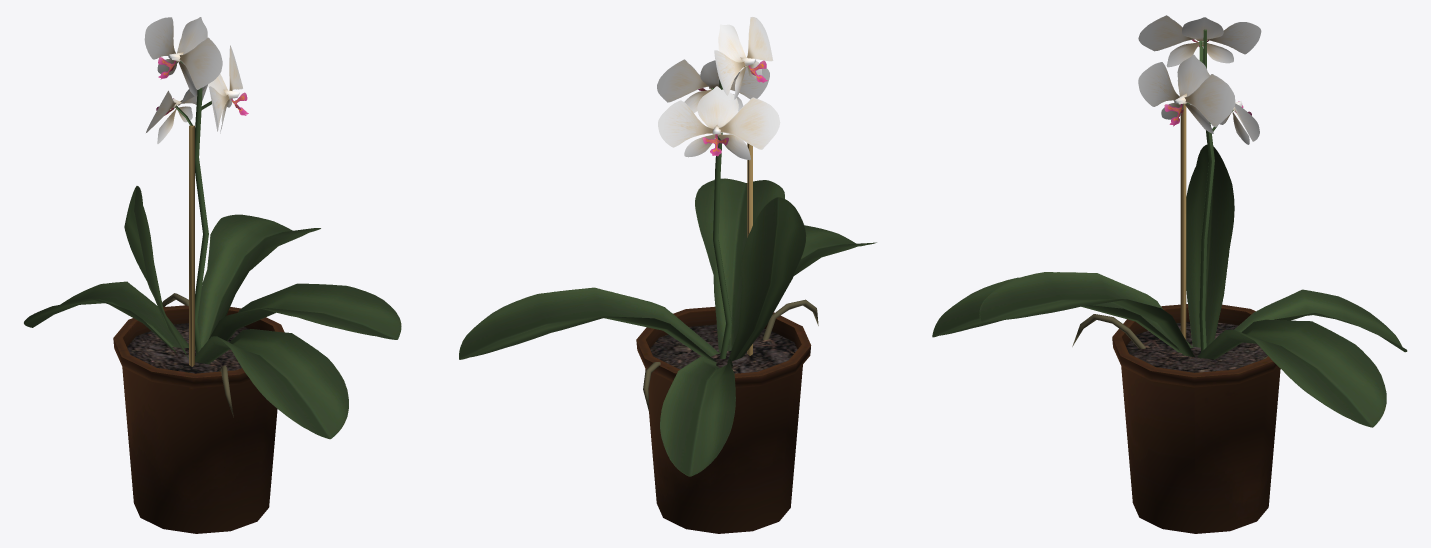
The model's file is Orchid_White_01.dae.
3 renders of one model, left to right at view 1: azimuth 30°, elevation 25°; view 2: azimuth 150°, elevation 25°; view 3: azimuth 270°, elevation 25°, orthographic.
Parts seen in each view (by area): view 1: polySurface1875; view 2: polySurface1875; view 3: polySurface1875.
Part boxes in pixels (left/top/right/bottom): polySurface1875: left=24, top=17, right=401, bottom=533; polySurface1875: left=459, top=17, right=876, bottom=533; polySurface1875: left=932, top=15, right=1407, bottom=533.
Size of the model in its own units: 0.9749 by 1.56 by 1.44.
Materials: 1 (1 with a texture image).
